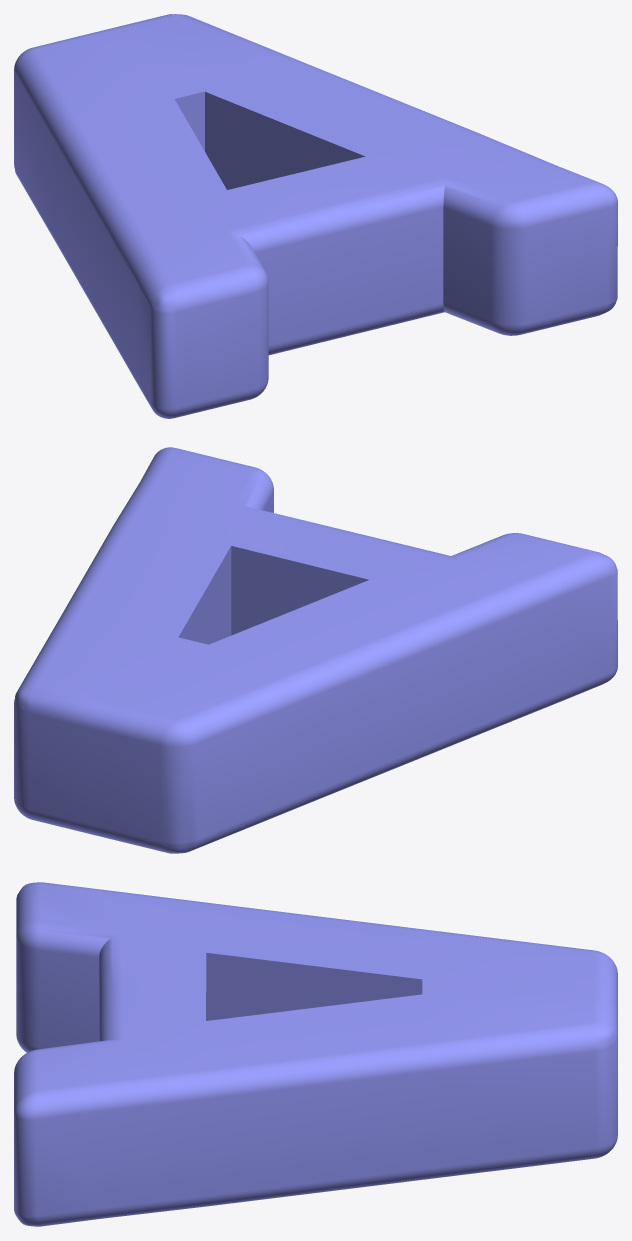
The picture shows the model from 3 angles, top to bottom: view 1: azimuth 30°, elevation 25°; view 2: azimuth 150°, elevation 25°; view 3: azimuth 270°, elevation 25°; orthographic projection.
Parts seen in each view (by area): view 1: 큐브.003; view 2: 큐브.003; view 3: 큐브.003.
Boxes of the visible parts, left/top/right/bottom form: 큐브.003: left=14, top=14, right=617, bottom=418; 큐브.003: left=14, top=447, right=617, bottom=853; 큐브.003: left=14, top=882, right=617, bottom=1226.
Size of the model in its own units: 708 by 193 by 793.
